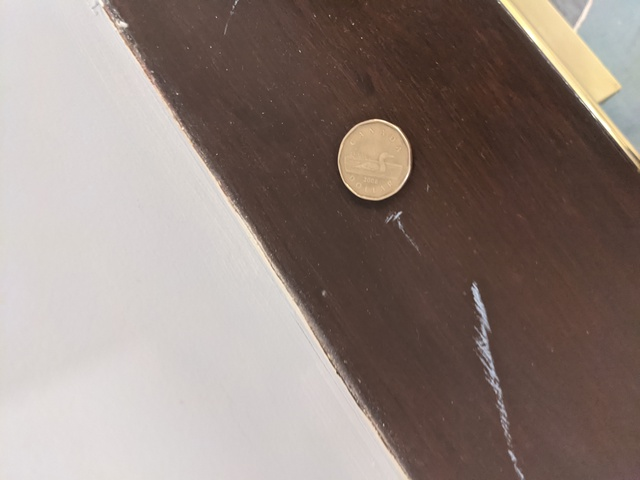loonie: (315, 104, 429, 219)
